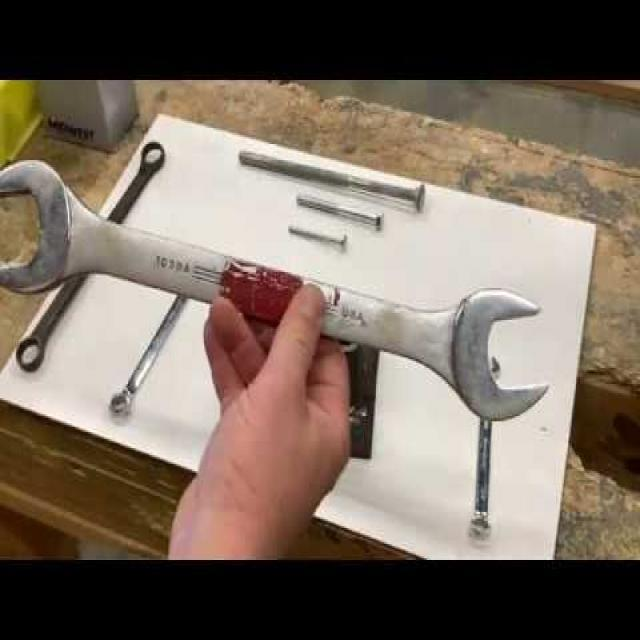wrench: (1, 150, 552, 427)
